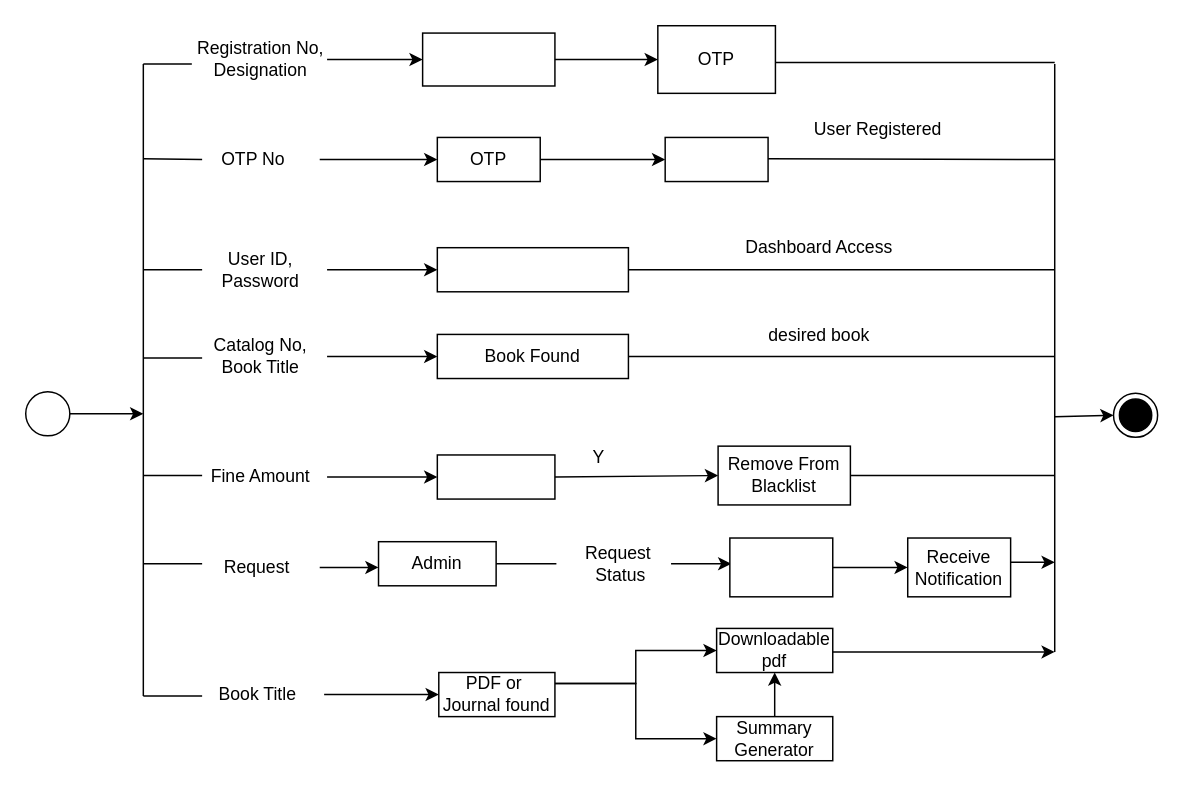
The diagram is 1183 pixels wide and 786 high, and some of its shapes have lost their labels. The shapes that lost their labels are listed below. From the top down, each one's centre as x and y in pixels, then its label:
(x=488, y=59): OTP Request
(x=716, y=159): Complete Registration
(x=532, y=269): Login
(x=495, y=476): MFS
(x=780, y=567): EG
